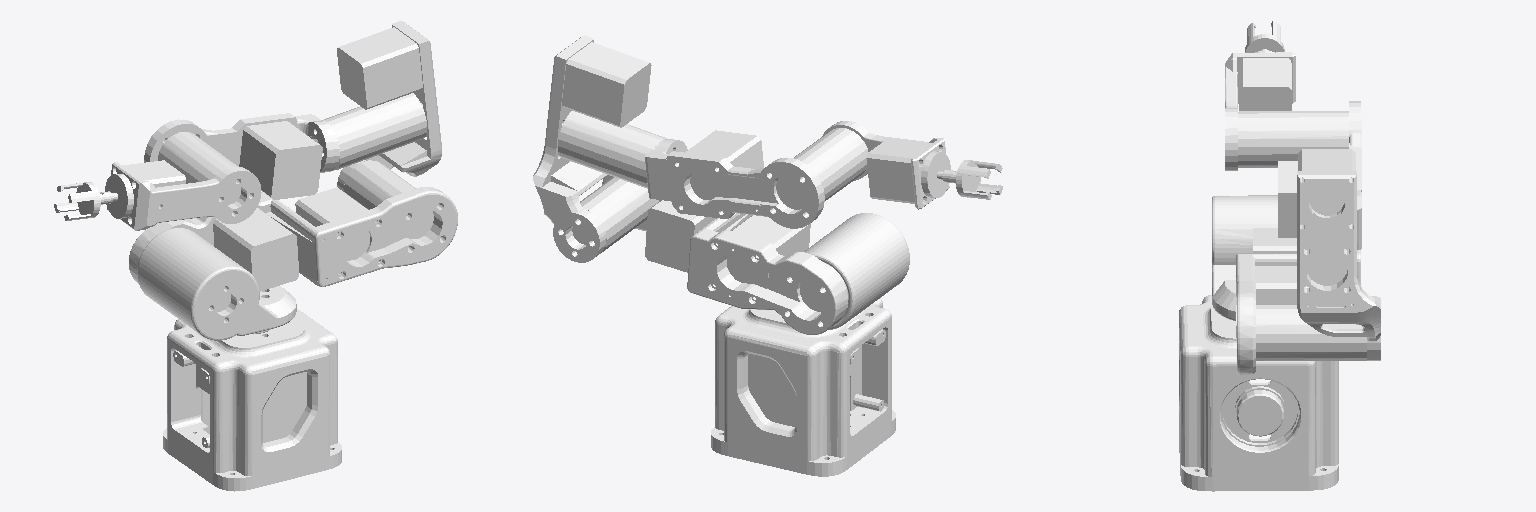
robot.urdf — dummy2-SLDASM:
<?xml version="1.0" encoding="utf-8"?>
<!-- This URDF was automatically created by SolidWorks to URDF Exporter! Originally created by Stephen Brawner (brawner@gmail.com) 
     Commit Version: 1.5.1-0-g916b5db  Build Version: 1.5.7152.31018
     For more information, please see http://wiki.ros.org/sw_urdf_exporter -->
<robot
  name="dummy2-SLDASM">
  <link
    name="base_link">
    <inertial>
      <origin
        xyz="0.0414130360937032 0.0406718044276676 0.0386845489683347"
        rpy="0 0 0" />
      <mass
        value="0.387673822333728" />
      <inertia
        ixx="0.000777649014838783"
        ixy="-2.70111444450103E-07"
        ixz="-7.00973333936696E-06"
        iyy="0.000718387993685806"
        iyz="-8.02049294338554E-07"
        izz="0.000791143378494354" />
    </inertial>
    <visual>
      <origin
        xyz="0 0 0"
        rpy="0 0 0" />
      <geometry>
        <mesh
          filename="package://dummy2-SLDASM/meshes/base_link.STL" />
      </geometry>
      <material
        name="">
        <color
          rgba="1 1 1 1" />
      </material>
    </visual>
    <collision>
      <origin
        xyz="0 0 0"
        rpy="0 0 0" />
      <geometry>
        <mesh
          filename="package://dummy2-SLDASM/meshes/base_link.STL" />
      </geometry>
    </collision>
  </link>
  <link
    name="l1">
    <inertial>
      <origin
        xyz="-0.0268097306667045 0.0061116536751003 0.0344105097027378"
        rpy="0 0 0" />
      <mass
        value="0.192001345237372" />
      <inertia
        ixx="0.000147744871448353"
        ixy="1.13806376663796E-05"
        ixz="4.25401315058094E-05"
        iyy="0.0001569950998556"
        iyz="-8.57280178037159E-06"
        izz="0.000177766490295347" />
    </inertial>
    <visual>
      <origin
        xyz="0 0 0"
        rpy="0 0 0" />
      <geometry>
        <mesh
          filename="package://dummy2-SLDASM/meshes/l1.STL" />
      </geometry>
      <material
        name="">
        <color
          rgba="1 1 1 1" />
      </material>
    </visual>
    <collision>
      <origin
        xyz="0 0 0"
        rpy="0 0 0" />
      <geometry>
        <mesh
          filename="package://dummy2-SLDASM/meshes/l1.STL" />
      </geometry>
    </collision>
  </link>
  <joint
    name="j1"
    type="revolute">
    <origin
      xyz="0.039254 0.040732 0.082"
      rpy="0 0 0" />
    <parent
      link="base_link" />
    <child
      link="l1" />
    <axis
      xyz="0 0 -1" />
    <limit
      lower="-3.14"
      upper="3.14"
      effort="0"
      velocity="0" />
  </joint>
  <link
    name="l2">
    <inertial>
      <origin
        xyz="-0.101936865972063 0.00934308835331846 -0.0224526389450591"
        rpy="0 0 0" />
      <mass
        value="0.318818356706658" />
      <inertia
        ixx="0.000206610508619923"
        ixy="3.94814814523405E-05"
        ixz="-0.000102200818567579"
        iyy="0.00102000888701362"
        iyz="5.38089508992778E-06"
        izz="0.000905604449596095" />
    </inertial>
    <visual>
      <origin
        xyz="0 0 0"
        rpy="0 0 0" />
      <geometry>
        <mesh
          filename="package://dummy2-SLDASM/meshes/l2.STL" />
      </geometry>
      <material
        name="">
        <color
          rgba="1 1 1 1" />
      </material>
    </visual>
    <collision>
      <origin
        xyz="0 0 0"
        rpy="0 0 0" />
      <geometry>
        <mesh
          filename="package://dummy2-SLDASM/meshes/l2.STL" />
      </geometry>
    </collision>
  </link>
  <joint
    name="j2"
    type="revolute">
    <origin
      xyz="-0.038244 0.048223 0.042403"
      rpy="1.5708 0 -3.138" />
    <parent
      link="l1" />
    <child
      link="l2" />
    <axis
      xyz="0 0 1" />
    <limit
      lower="-3.14"
      upper="3.14"
      effort="0"
      velocity="0" />
  </joint>
  <link
    name="l3">
    <inertial>
      <origin
        xyz="-0.000219528521521448 -0.0664353003081321 -0.0227777072287975"
        rpy="0 0 0" />
      <mass
        value="0.177031913277576" />
      <inertia
        ixx="0.000196456886500336"
        ixy="-8.24948034605403E-06"
        ixz="-4.6985201760811E-06"
        iyy="0.000100949845669949"
        iyz="-2.22200477334224E-05"
        izz="0.000243511117382028" />
    </inertial>
    <visual>
      <origin
        xyz="0 0 0"
        rpy="0 0 0" />
      <geometry>
        <mesh
          filename="package://dummy2-SLDASM/meshes/l3.STL" />
      </geometry>
      <material
        name="">
        <color
          rgba="1 1 1 1" />
      </material>
    </visual>
    <collision>
      <origin
        xyz="0 0 0"
        rpy="0 0 0" />
      <geometry>
        <mesh
          filename="package://dummy2-SLDASM/meshes/l3.STL" />
      </geometry>
    </collision>
  </link>
  <joint
    name="j3"
    type="revolute">
    <origin
      xyz="-0.16835 0.013027 0.01915"
      rpy="0 0 -3.1416" />
    <parent
      link="l2" />
    <child
      link="l3" />
    <axis
      xyz="0 0 1" />
    <limit
      lower="-3.14"
      upper="3.14"
      effort="0"
      velocity="0" />
  </joint>
  <link
    name="l4">
    <inertial>
      <origin
        xyz="0.00874654693686563 -0.00127604542355547 0.0721271141380532"
        rpy="0 0 0" />
      <mass
        value="0.169343229289386" />
      <inertia
        ixx="0.00027281936323889"
        ixy="-9.63634745003788E-07"
        ixz="-4.44817061378368E-05"
        iyy="0.000325039450118555"
        iyz="-5.50443313162382E-06"
        izz="8.92852039117135E-05" />
    </inertial>
    <visual>
      <origin
        xyz="0 0 0"
        rpy="0 0 0" />
      <geometry>
        <mesh
          filename="package://dummy2-SLDASM/meshes/l4.STL" />
      </geometry>
      <material
        name="">
        <color
          rgba="1 1 1 1" />
      </material>
    </visual>
    <collision>
      <origin
        xyz="0 0 0"
        rpy="0 0 0" />
      <geometry>
        <mesh
          filename="package://dummy2-SLDASM/meshes/l4.STL" />
      </geometry>
    </collision>
  </link>
  <joint
    name="j4"
    type="revolute">
    <origin
      xyz="-0.045947 -0.050217 -0.02515"
      rpy="3.0305 1.5708 0" />
    <parent
      link="l3" />
    <child
      link="l4" />
    <axis
      xyz="0 0 1" />
    <limit
      lower="-3.14"
      upper="3.14"
      effort="0"
      velocity="0" />
  </joint>
  <link
    name="l5">
    <inertial>
      <origin
        xyz="0.0500153536436557 -0.00547381409768788 -0.0586137582254118"
        rpy="0 0 0" />
      <mass
        value="0.0670202058804507" />
      <inertia
        ixx="1.68657339889353E-05"
        ixy="3.17253751758574E-06"
        ixz="-8.99907398513974E-06"
        iyy="4.55003217210313E-05"
        iyz="9.52841115072623E-07"
        izz="4.09722921610714E-05" />
    </inertial>
    <visual>
      <origin
        xyz="0 0 0"
        rpy="0 0 0" />
      <geometry>
        <mesh
          filename="package://dummy2-SLDASM/meshes/l5.STL" />
      </geometry>
      <material
        name="">
        <color
          rgba="1 1 1 1" />
      </material>
    </visual>
    <collision>
      <origin
        xyz="0 0 0"
        rpy="0 0 0" />
      <geometry>
        <mesh
          filename="package://dummy2-SLDASM/meshes/l5.STL" />
      </geometry>
    </collision>
  </link>
  <joint
    name="j5"
    type="revolute">
    <origin
      xyz="-0.014464 6.6846E-05 0.11"
      rpy="-1.5708 -1.4597 1.5662" />
    <parent
      link="l4" />
    <child
      link="l5" />
    <axis
      xyz="1.2959E-05 0 -1" />
    <limit
      lower="-3.14"
      upper="3.14"
      effort="0"
      velocity="0" />
  </joint>
  <link
    name="l6">
    <inertial>
      <origin
        xyz="-0.00283589130470663 1.12710801802862E-09 -1.36973973829946E-10"
        rpy="0 0 0" />
      <mass
        value="0.00415080289875084" />
      <inertia
        ixx="3.00184162632802E-07"
        ixy="5.10999069610954E-14"
        ixz="-6.28325375025606E-15"
        iyy="4.3918602149999E-07"
        iyz="-2.66742896235655E-11"
        izz="4.38947040816448E-07" />
    </inertial>
    <visual>
      <origin
        xyz="0 0 0"
        rpy="0 0 0" />
      <geometry>
        <mesh
          filename="package://dummy2-SLDASM/meshes/l6.STL" />
      </geometry>
      <material
        name="">
        <color
          rgba="1 1 1 1" />
      </material>
    </visual>
    <collision>
      <origin
        xyz="0 0 0"
        rpy="0 0 0" />
      <geometry>
        <mesh
          filename="package://dummy2-SLDASM/meshes/l6.STL" />
      </geometry>
    </collision>
  </link>
  <joint
    name="j6"
    type="revolute">
    <origin
      xyz="0.10639 -0.011454 -0.052611"
      rpy="0.0046211 0 -0.11025" />
    <parent
      link="l5" />
    <child
      link="l6" />
    <axis
      xyz="-1 0 0" />
    <limit
      lower="-3.14"
      upper="3.14"
      effort="0"
      velocity="0" />
  </joint>
</robot>

--- Facts derived from the render (not from the file) ---
3 views of the same robot in one strip: view 1: azimuth 30°, elevation 25°; view 2: azimuth 150°, elevation 25°; view 3: azimuth 270°, elevation 25° (orthographic).
Robot: dummy2-SLDASM — 7 links, 6 joints (6 revolute); root link base_link; default pose: all joints at 0.
Visible links, largest first — view 1: base_link, l2, l3, l4, l1, l5, l6; view 2: base_link, l2, l3, l4, l1, l5, l6; view 3: base_link, l3, l2, l4, l5, l1, l6.
Boxes of the visible links, bbox=[...] form: base_link: bbox=[163, 309, 341, 491]; l2: bbox=[129, 160, 457, 291]; l3: bbox=[323, 21, 441, 191]; l4: bbox=[144, 113, 339, 204]; l1: bbox=[137, 228, 296, 340]; l5: bbox=[105, 160, 260, 230]; l6: bbox=[54, 182, 117, 220]; base_link: bbox=[711, 298, 895, 476]; l2: bbox=[572, 175, 847, 334]; l3: bbox=[533, 35, 666, 262]; l4: bbox=[645, 128, 868, 228]; l1: bbox=[800, 213, 909, 329]; l5: bbox=[822, 121, 950, 209]; l6: bbox=[937, 160, 1002, 199]; base_link: bbox=[1179, 295, 1338, 491]; l3: bbox=[1297, 149, 1380, 360]; l2: bbox=[1236, 228, 1366, 374]; l4: bbox=[1238, 101, 1361, 249]; l5: bbox=[1225, 51, 1295, 170]; l1: bbox=[1212, 195, 1277, 320]; l6: bbox=[1245, 21, 1284, 52].
Size in the robot's own frame: 0.3173 by 0.1276 by 0.2691 metres.
7 mesh visuals loaded from 7 distinct referenced files (7 binary STL).
